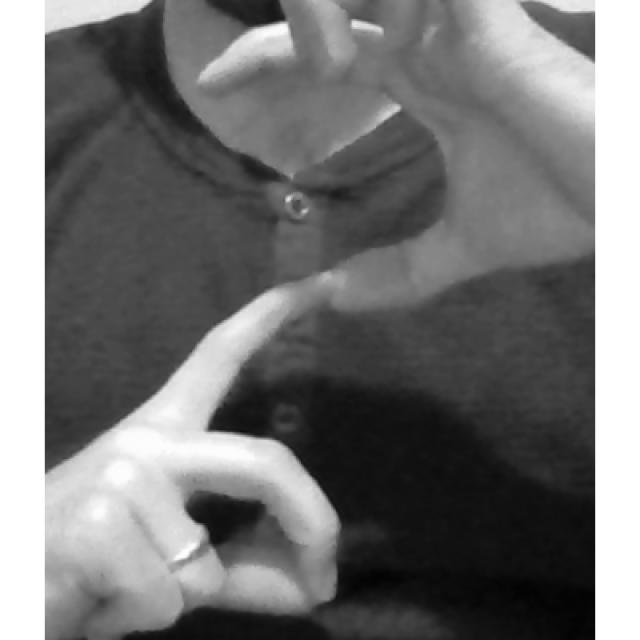S_: (44, 15, 593, 640)
